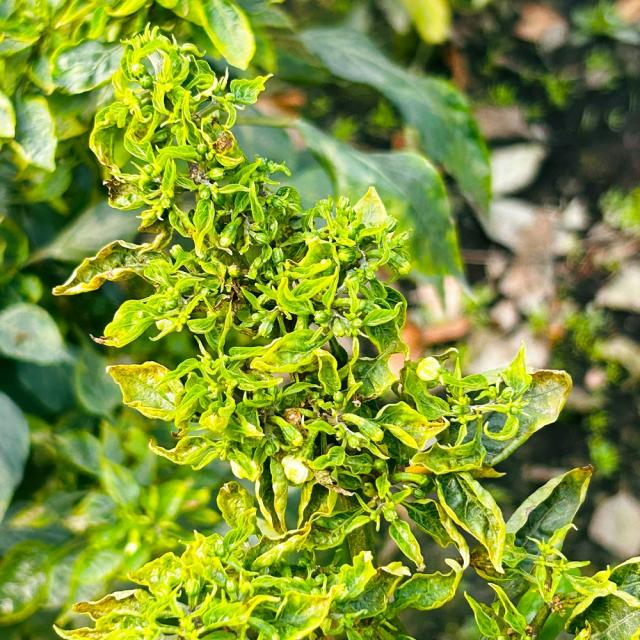Chilli_Leaf_Curl: (45, 21, 638, 638)
